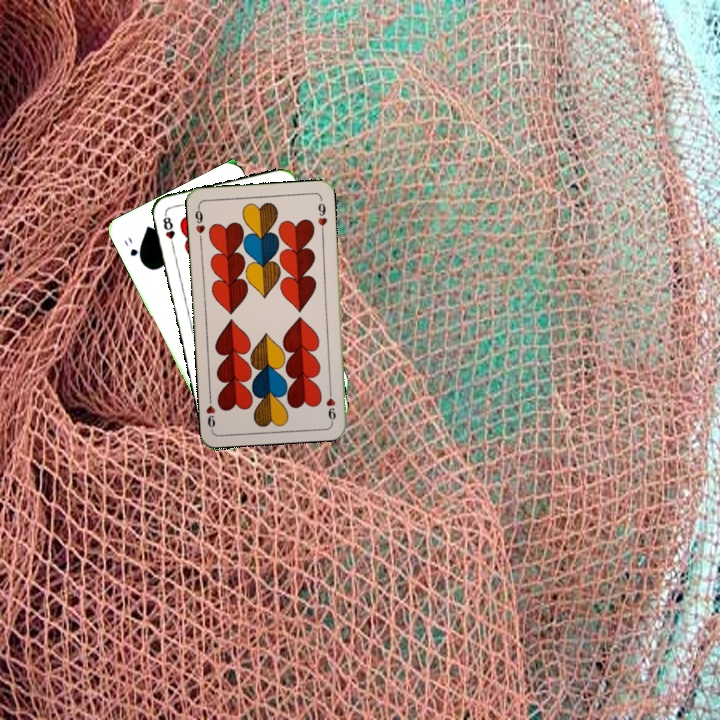GO: (120, 233, 146, 266)
H8: (159, 210, 178, 250)
H9: (191, 202, 207, 243), (323, 383, 338, 424)
